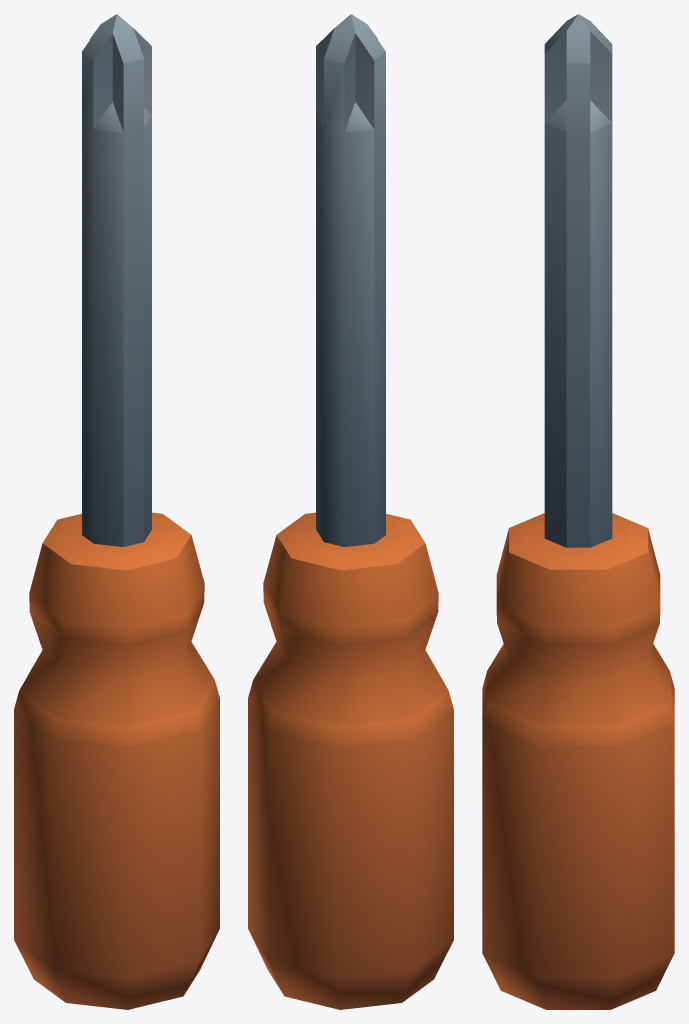
The model's file is screwdriver_B_long_color.fbx.
The picture shows the model from 3 angles, left to right: view 1: azimuth 30°, elevation 25°; view 2: azimuth 150°, elevation 25°; view 3: azimuth 270°, elevation 25°; orthographic projection.
Visible parts, largest first — view 1: screwdriver_B_long_color; view 2: screwdriver_B_long_color; view 3: screwdriver_B_long_color.
Boxes of the visible parts, bbox=[...] form: screwdriver_B_long_color: bbox=[14, 14, 219, 1009]; screwdriver_B_long_color: bbox=[248, 14, 453, 1009]; screwdriver_B_long_color: bbox=[482, 14, 674, 1009].
Bounding box in the file's own units: 15.13 × 85.36 × 15.13.
